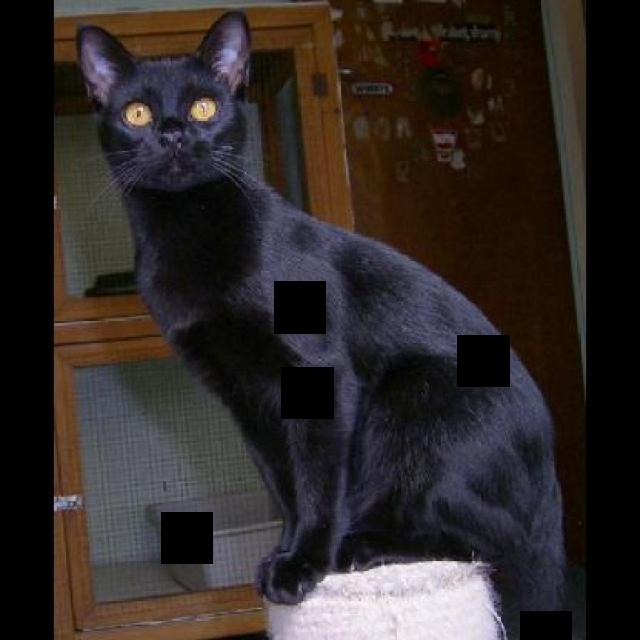unauthorized: (72, 7, 574, 638)
